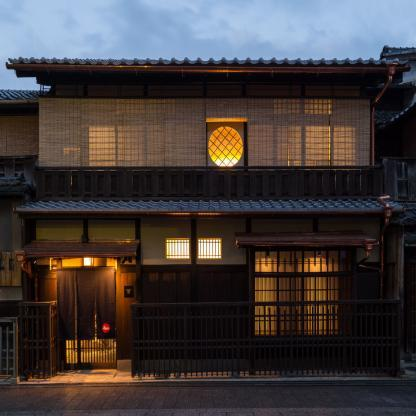Blind: (39, 98, 206, 167), (206, 98, 329, 167), (248, 98, 371, 167), (256, 272, 353, 336)
Building Outline: (5, 57, 411, 372)
Door: (63, 270, 115, 369)
Facade: (40, 73, 375, 372)
Ground Floor: (33, 197, 375, 372)
Roof: (5, 57, 411, 76), (13, 197, 406, 216), (13, 239, 140, 264), (235, 230, 380, 246)
Top Floor: (51, 74, 374, 191), (37, 191, 374, 197)
Window: (256, 247, 353, 336), (277, 125, 356, 167), (89, 125, 143, 167), (116, 100, 175, 115), (274, 99, 333, 114), (165, 239, 191, 260), (198, 239, 222, 260)
